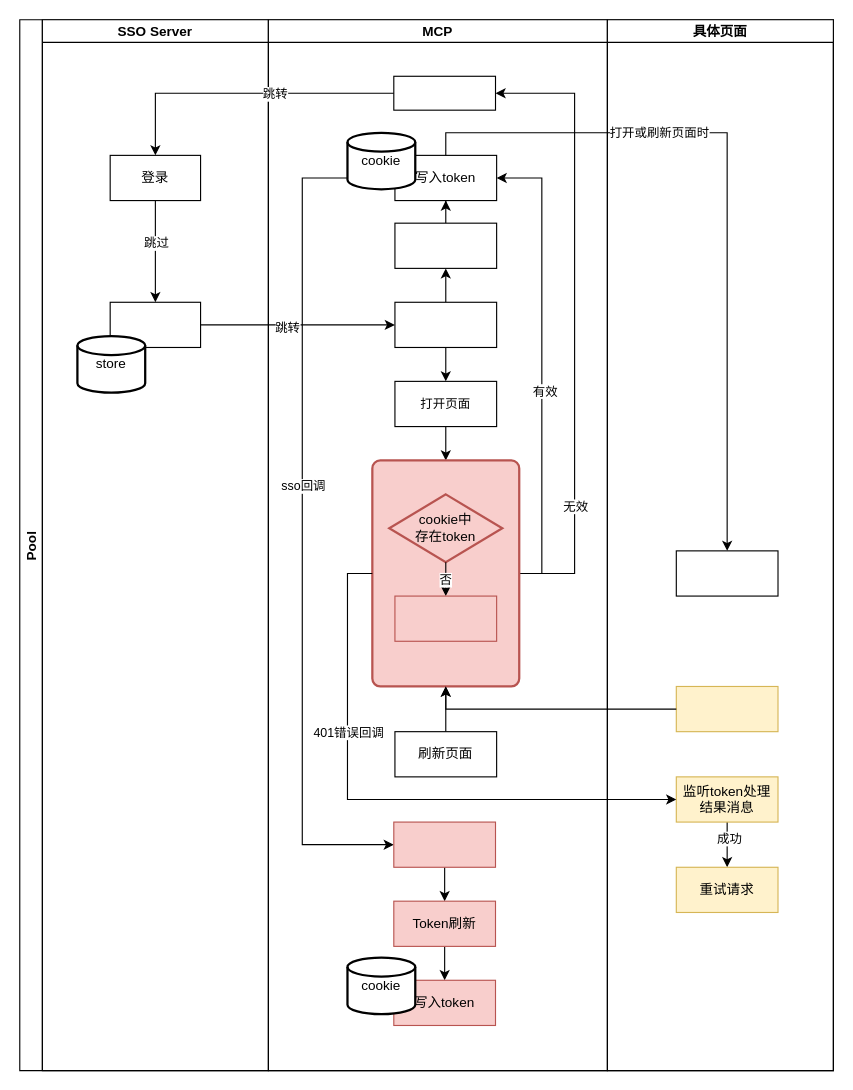
The diagram is 853 pixels wide and 1090 high, and some of its shapes have lost their labels. The centre of each missing label's shape, as x and y in pixels:
401错误: (x=726, y=708)
Token失效监听: (x=444, y=844)
写入用户信息: (x=155, y=324)
渲染页面: (x=726, y=573)
登录页: (x=444, y=92)
获取用户信息: (x=445, y=245)
重新获取: (x=445, y=618)
首页（父）: (x=445, y=324)
